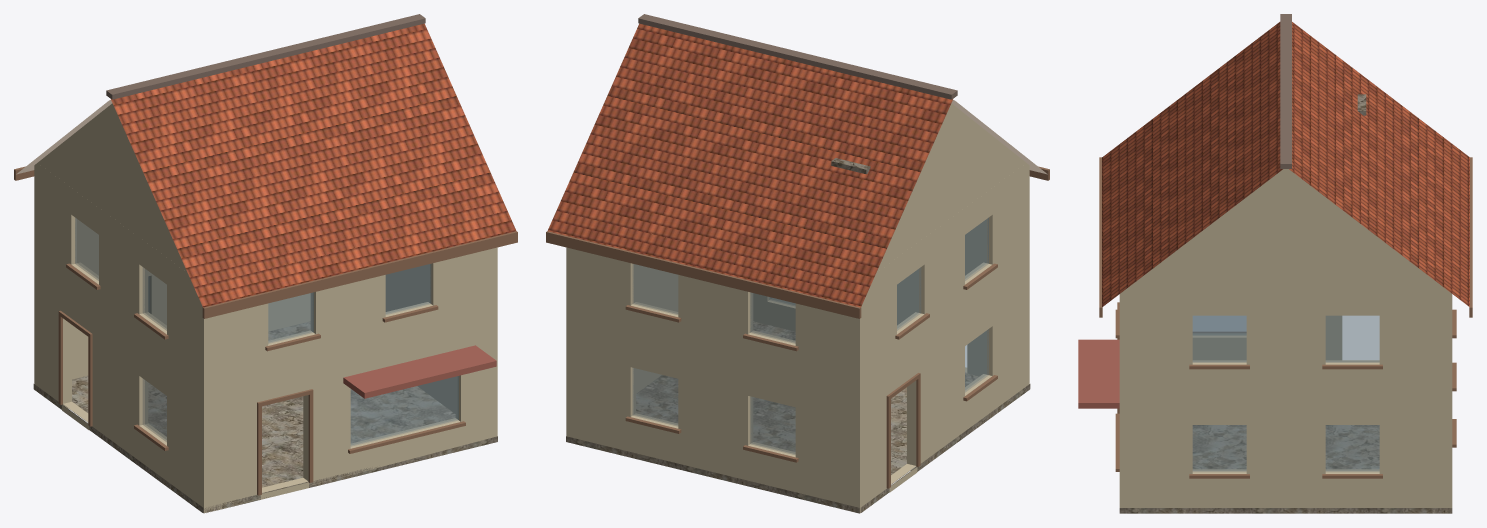
File: bakery.glass-v1.lod1.glb
3 renders of one model, left to right at view 1: azimuth 30°, elevation 25°; view 2: azimuth 150°, elevation 25°; view 3: azimuth 270°, elevation 25°, orthographic.
Parts seen in each view (by area): view 1: bakery; view 2: bakery; view 3: bakery.
Part boxes in pixels (x1,y1,x2,y2): bakery: (14,14,517,513); bakery: (546,14,1049,513); bakery: (1078,14,1472,513).
Size of the model in its own units: 8.54 by 9.41 by 9.49.
4 materials, 2 textured.
